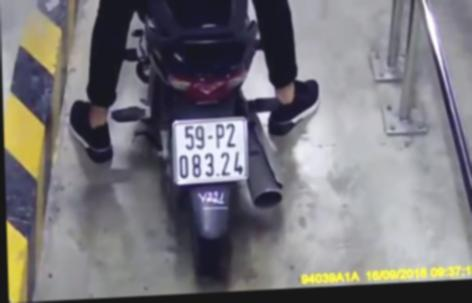License_Plate: (165, 109, 260, 192)
